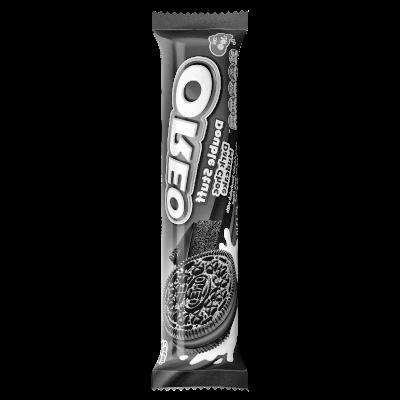snackbag: (77, 8, 300, 397)
